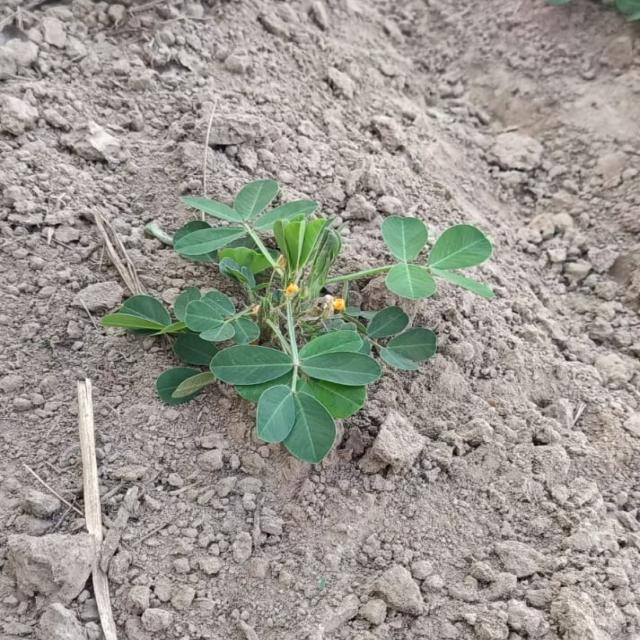plant: (102, 180, 493, 463)
